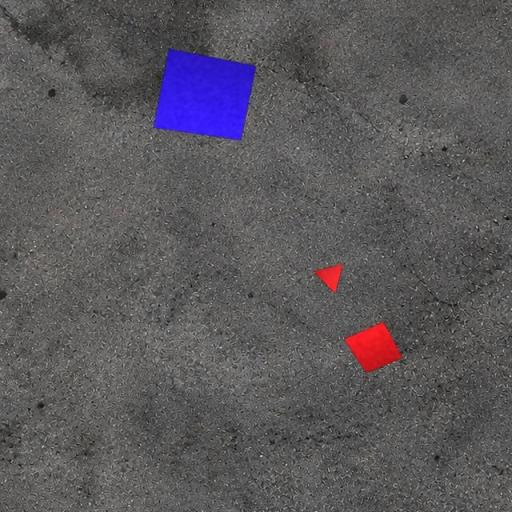BLUE_SQUARE: (153, 48, 257, 141)
RED_SQUARE: (343, 322, 403, 374)
